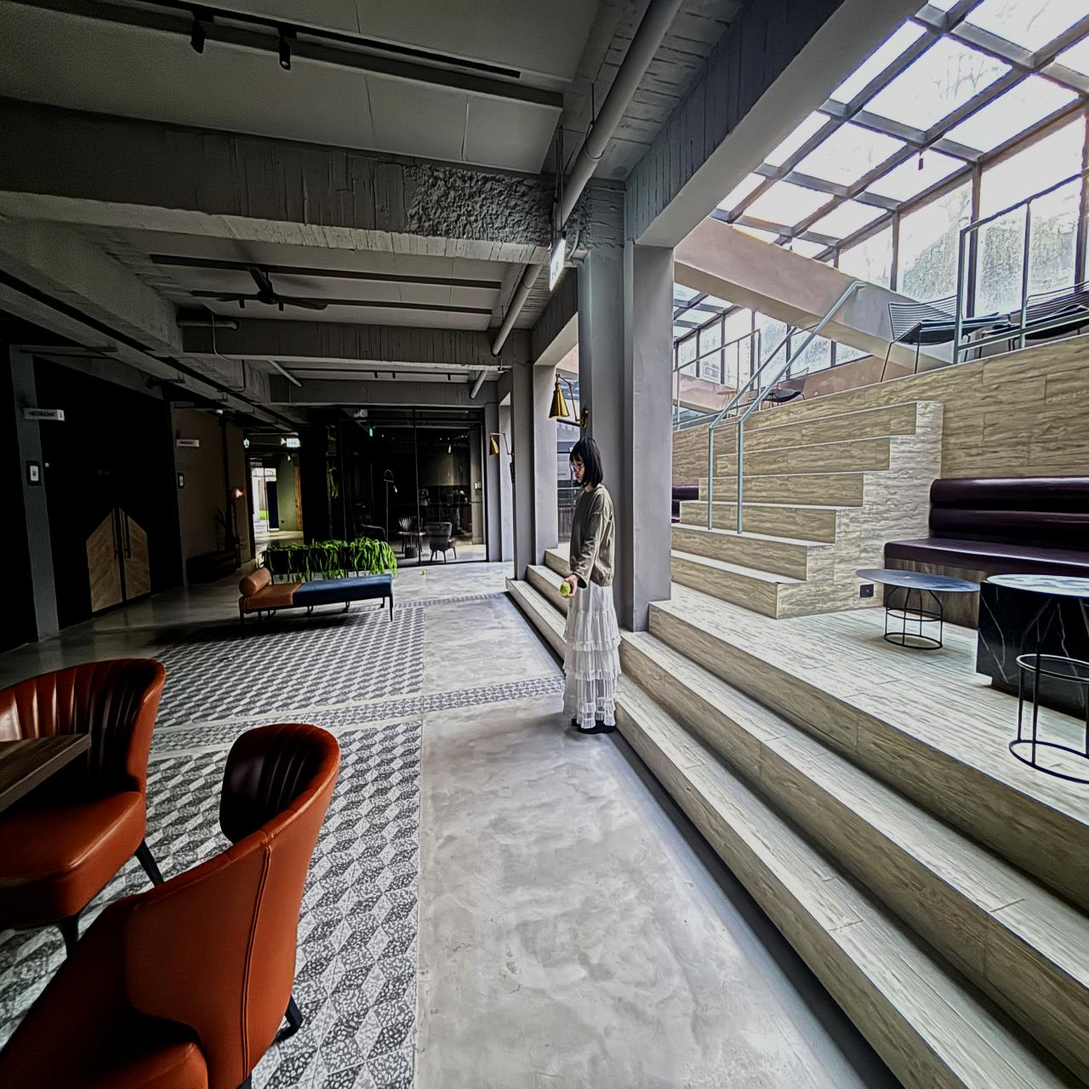person: (564, 437, 620, 733)
tennisball: (561, 583, 571, 597)
